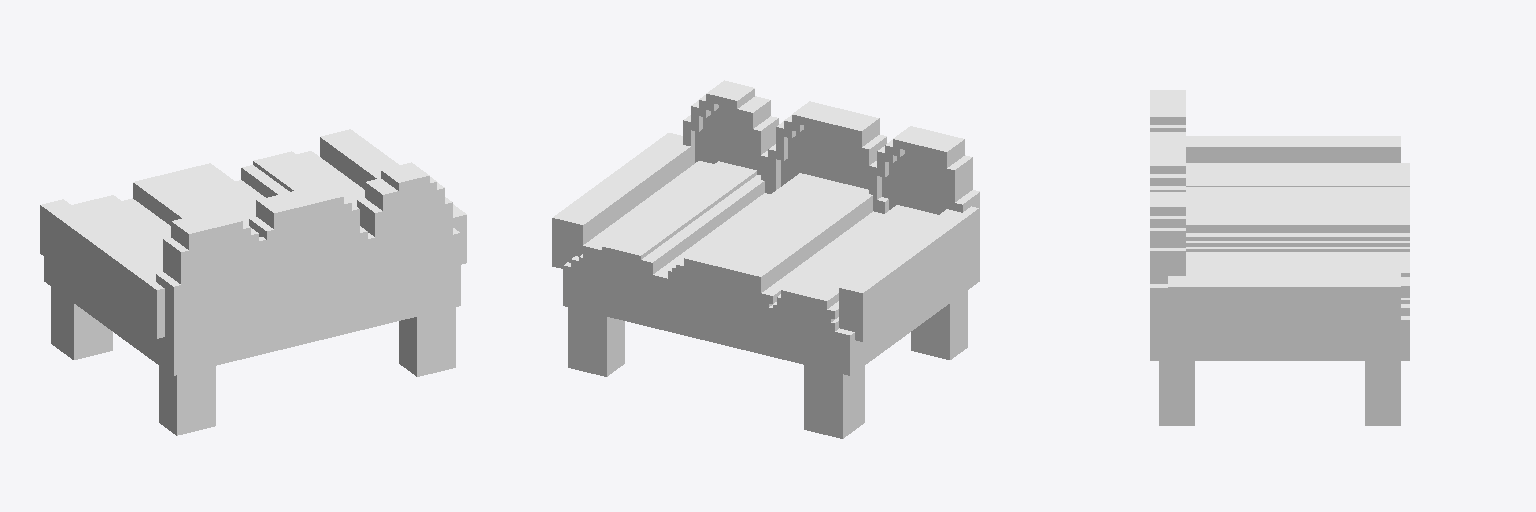
The model's file is sillon_voxel.obj.
3 views of the same model, side by side, from view 1: azimuth 30°, elevation 25°; view 2: azimuth 150°, elevation 25°; view 3: azimuth 270°, elevation 25° (orthographic).
Visible parts, largest first — view 1: object 1; view 2: object 1; view 3: object 1.
Boxes of the visible parts, x1,y1,x2,y2 form: object 1: [40, 129, 466, 435]; object 1: [552, 80, 979, 438]; object 1: [1150, 90, 1409, 425].
Bounding box in the file's own units: 8 × 5 × 5.8.